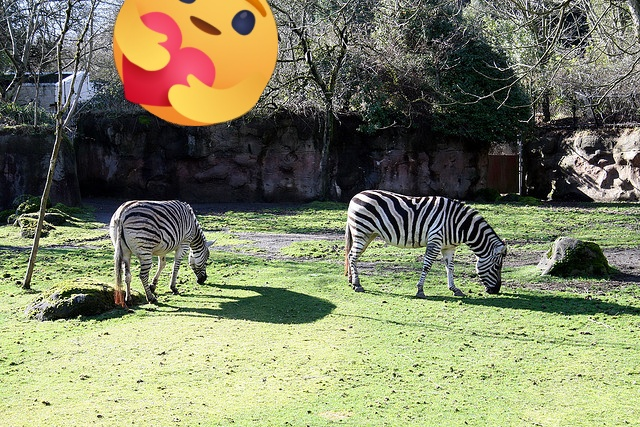care: (113, 0, 278, 126)
